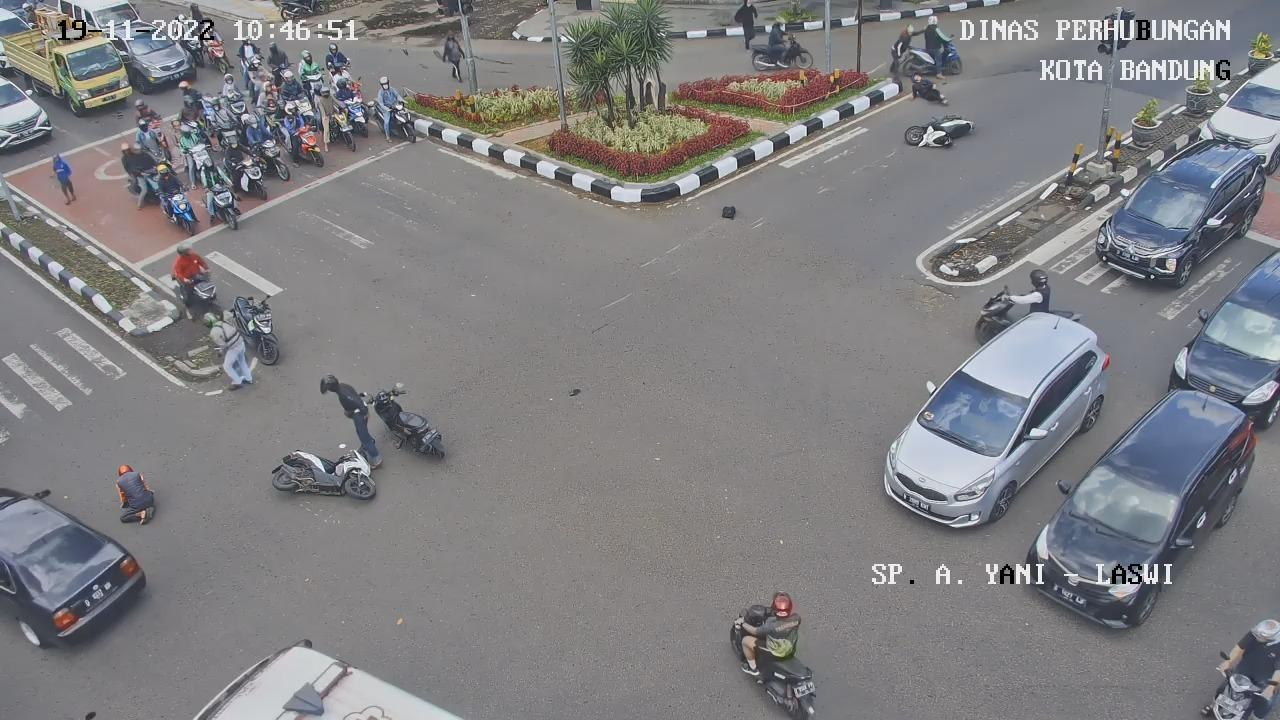accident: (100, 452, 165, 530), (909, 72, 950, 107)
